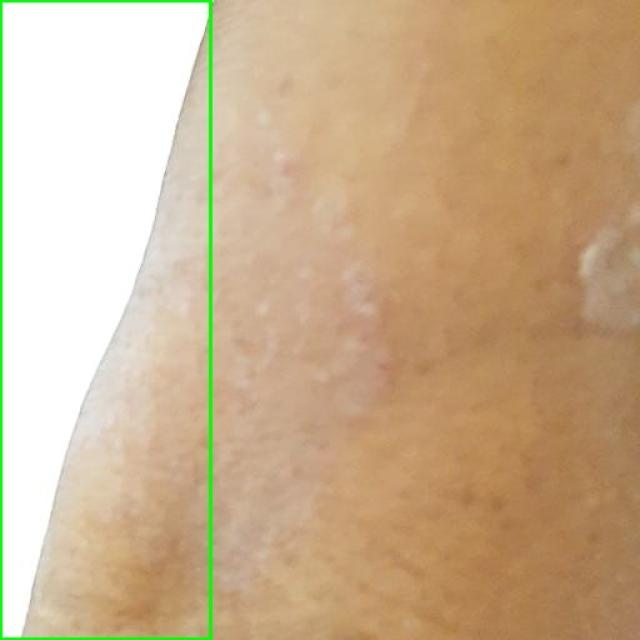Tinea Corporis: (0, 0, 210, 639)
